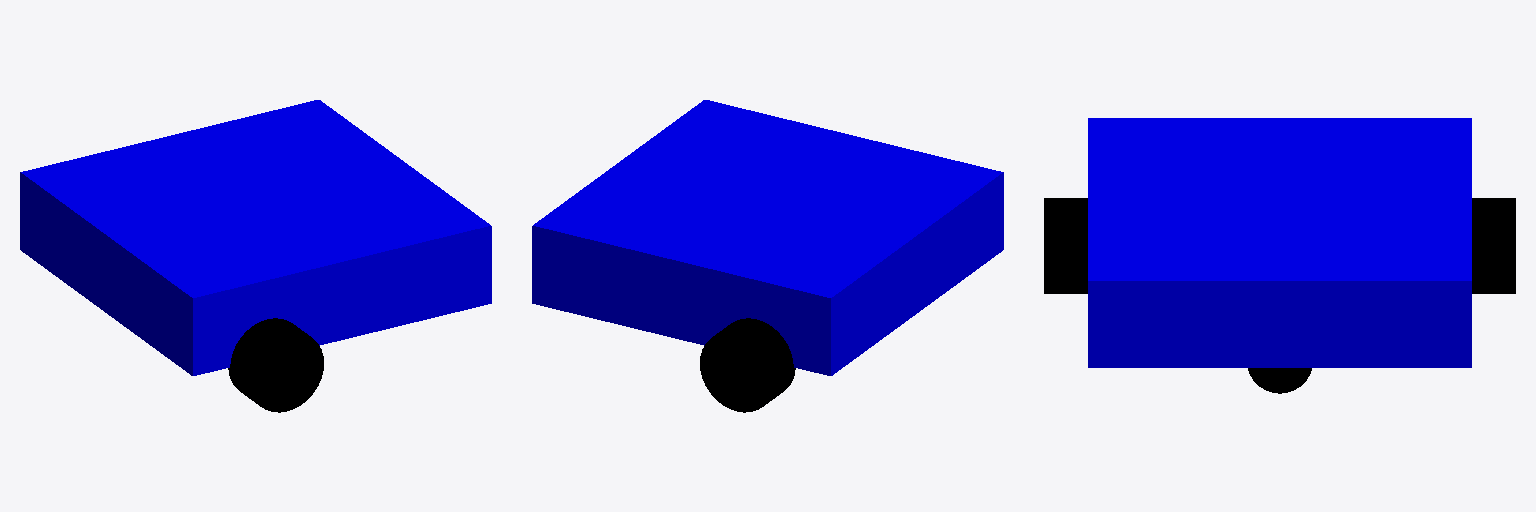
URDF robot description (simple_four_wheel_car):
<?xml version="1.0" ?>
<robot name="simple_four_wheel_car">
  <!-- Base Link -->
  <link name="base_link">
    <visual>
      <origin xyz="0 0 0" rpy="0 0 0"/>
      <geometry>
        <box size="0.20 0.20 0.05"/>
      </geometry>
      <material name="blue">
        <color rgba="0 0 1 1"/>
      </material>
    </visual>
    <collision>
      <origin xyz="0 0 0" rpy="0 0 0"/>
      <geometry>
        <box size="0.2 0.2 0.05"/>
      </geometry>
    </collision>
    <inertial>
        <origin xyz="0.0 0 0" rpy="0 0 0"/>
        <mass value="0.4"/>
        <inertia ixx="0.0000" 
                 ixy="0" ixz="0"
                 iyx="0" iyy="0.0000"
                 iyz="0"
                 izx="0" izy="0" izz="0.0000"/>
    </inertial>
  </link>

  <!-- Left Wheel Link -->
  <link name="left_wheel_link">
    <visual>
      <origin xyz="0 0 0" rpy="1.5708 0 0"/>
      <geometry>
        <cylinder length="0.025" radius="0.025"/>
      </geometry>
      <material name="black">
        <color rgba="0 0 0 1"/>
      </material>
    </visual>
    <collision>
      <origin xyz="0 0 0" rpy="1.5708 0 0"/>
      <geometry>
        <cylinder length="0.025" radius="0.025"/>
      </geometry>
    </collision>
    <inertial>
        <origin xyz="0 0 0" rpy="0 0 0"/>
        <mass value="0.05"/>
        <inertia ixx="0.0000" 
                 ixy="0" ixz="0"
                 iyx="0" iyy="0.0000" 
                 iyz="0"
                 izx="0" izy="0" izz="0.0000"/>
    </inertial>
  </link>

  <!-- Joint: Base Link to Left Wheel -->
  <joint name="left_wheel_joint" type="continuous">
    <parent link="base_link"/>
    <child link="left_wheel_link"/>
    <origin xyz="-0.05 -0.11 -0.025" rpy="0 0 0"/>
    <axis xyz="0 1 0"/>
  </joint>

  <!-- Right Wheel Link -->
  <link name="right_wheel_link">
    <visual>
      <origin xyz="0 0 0" rpy="1.5708 0 0"/>
      <geometry>
        <cylinder length="0.025" radius="0.025"/>
      </geometry>
      <material name="black">
        <color rgba="0 0 0 1"/>
      </material>
    </visual>
    <collision>
      <origin xyz="0 0 0" rpy="1.5708 0 0"/>
      <geometry>
        <cylinder length="0.025" radius="0.025"/>
      </geometry>
    </collision>
    <inertial>
        <origin xyz="0 0 0" rpy="0 0 0"/>
        <mass value="0.05"/>
        <inertia ixx="0.0000" 
                 ixy="0" ixz="0"
                 iyx="0" iyy="0.0000" 
                 iyz="0"
                 izx="0" izy="0" izz="0.0000"/>
    </inertial>
  </link>

  <!-- Joint: Base Link to Right Wheel -->
  <joint name="right_wheel_joint" type="continuous">
    <parent link="base_link"/>
    <child link="right_wheel_link"/>
    <origin xyz="-0.05 0.11 -0.025" rpy="0 0 0"/>
    <axis xyz="0 1 0"/>
  </joint>

  <!-- Front Caster -->
  <link name="front_caster_link">
    <visual>
      <origin xyz="0 0 0" rpy="0 0 0"/>
      <geometry>
        <sphere radius="0.0175"/>
      </geometry>
      <material name="black">
        <color rgba="0 0 0 1"/>
      </material>
    </visual>
    <collision>
      <origin xyz="0 0 0" rpy="0 0 0"/>
      <geometry>
        <sphere radius="0.0175"/>
      </geometry>
    </collision>
    <inertial>
        <origin xyz="0 0 0" rpy="0 0 0"/>
        <mass value="0.001"/>
        <inertia ixx="0.00000"
                 ixy="0" ixz="0"
                 iyx="0" iyy="0.00000" 
                 iyz="0"
                 izx="0" izy="0" izz="0.0000"/>
    </inertial>
  </link>

  <!-- Front Caster Joint -->
  <joint name="front_caster_joint" type="fixed">
    <parent link="base_link"/>
    <child link="front_caster_link"/>
    <origin xyz="0.075 0.0 -0.032" rpy="0 0 0"/>
    <axis xyz="0 0 1"/>
  </joint>

  <!-- Bottom Sensor -->
  <link name="bottom_sensor_link">
    <visual>
      <origin xyz="0 0 0" rpy="0 0 0"/>
      <geometry>
        <box size="0.01 0.01 0.01"/>
      </geometry>
      <material name="black">
        <color rgba="0 0 0 1"/>
      </material>
    </visual>
    <collision>
      <origin xyz="0 0 0" rpy="0 0 0"/>
      <geometry>
        <box size="0.01 0.01 0.01"/>
      </geometry>
    </collision>
    <inertial>
        <origin xyz="0 0 0" rpy="0 0 0"/>
        <mass value="0.001"/>
        <inertia ixx="0.00000"
                 ixy="0" ixz="0"
                 iyx="0" iyy="0.00000"
                 iyz="0"
                 izx="0" izy="0" izz="0.00000"/>
    </inertial>
  </link>

  <!-- Bottom Sensor Joint -->
  <joint name="bottom_sensor_joint" type="fixed">
    <parent link="base_link"/>
    <child link="bottom_sensor_link"/>
    <origin xyz="0.09 0.0 -0.025" rpy="0 0 0"/>
    <axis xyz="0 0 1"/>
  </joint>

  <link name="b_target_position_vertual_link">
    <inertial>
        <origin xyz="0 0 0" rpy="0 0 0" />
        <mass value="0.001" />
        <inertia ixx="0.00000" 
            ixy="0"  ixz="0"
            iyx="0"  iyy="0.0000" 
            iyz="0"
            izx="0"  izy="0"  izz="0.0000" />
    </inertial>
  </link>

  <joint name="bottom_sensor_target_joint" type="fixed">
    <parent link="bottom_sensor_link"/>
    <child link="b_target_position_vertual_link"/>
    <origin xyz="0.0 0.0 -0.05" rpy="0 0 0"/>
    <axis xyz="0 0 1"/>
  </joint>

</robot>

--- What the picture shows (computed from the rendered views, not written in the file) ---
Views: 3 orthographic renders of the robot side by side, from view 1: azimuth 30°, elevation 25°; view 2: azimuth 150°, elevation 25°; view 3: azimuth 270°, elevation 25°.
Model simple_four_wheel_car with 6 links and 5 joints (2 continuous, 3 fixed), rooted at base_link, posed every joint at zero.
Visible links, largest first — view 1: base_link, left_wheel_link; view 2: base_link, right_wheel_link; view 3: base_link, left_wheel_link, right_wheel_link, front_caster_link.
Boxes of the visible links, x1,y1,x2,y2 form: base_link: [20, 100, 491, 375]; left_wheel_link: [228, 318, 323, 412]; base_link: [532, 100, 1003, 375]; right_wheel_link: [700, 318, 795, 412]; base_link: [1088, 118, 1471, 367]; left_wheel_link: [1044, 198, 1087, 293]; right_wheel_link: [1472, 198, 1515, 293]; front_caster_link: [1248, 368, 1311, 393].
Bounding box of the posed robot: 0.2 × 0.245 × 0.075 m (x, y, z).
Geometry: primitives only (box / cylinder / sphere), no mesh files.